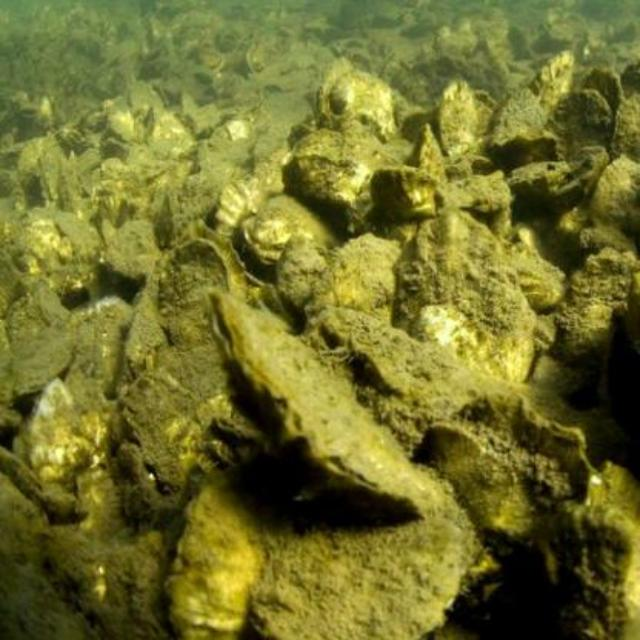Oyster-Closed: (205, 295, 426, 511), (254, 475, 474, 640), (392, 212, 542, 383), (446, 387, 598, 500), (172, 481, 269, 640), (320, 315, 475, 412), (530, 508, 640, 640), (419, 423, 514, 529), (21, 371, 111, 482), (305, 236, 402, 338), (157, 241, 227, 344), (213, 169, 269, 250), (594, 153, 640, 251), (484, 85, 550, 153), (375, 167, 438, 227), (533, 41, 579, 119), (434, 81, 479, 155), (337, 70, 392, 126), (312, 54, 351, 121)
